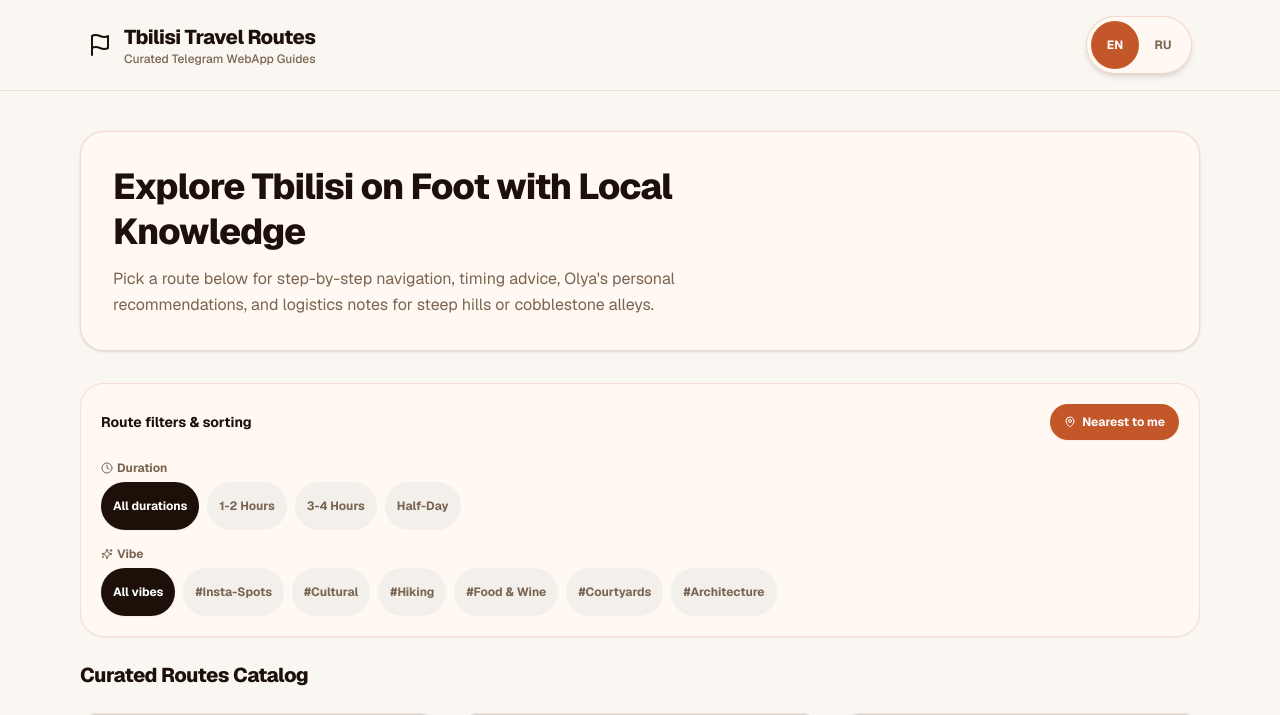
Test case: The catalog › offers a language toggle that switches the catalog into Russian
Click the button with aria-label "Переключить на русский": (1163, 45) x1=1139 y1=21 x2=1187 y2=69
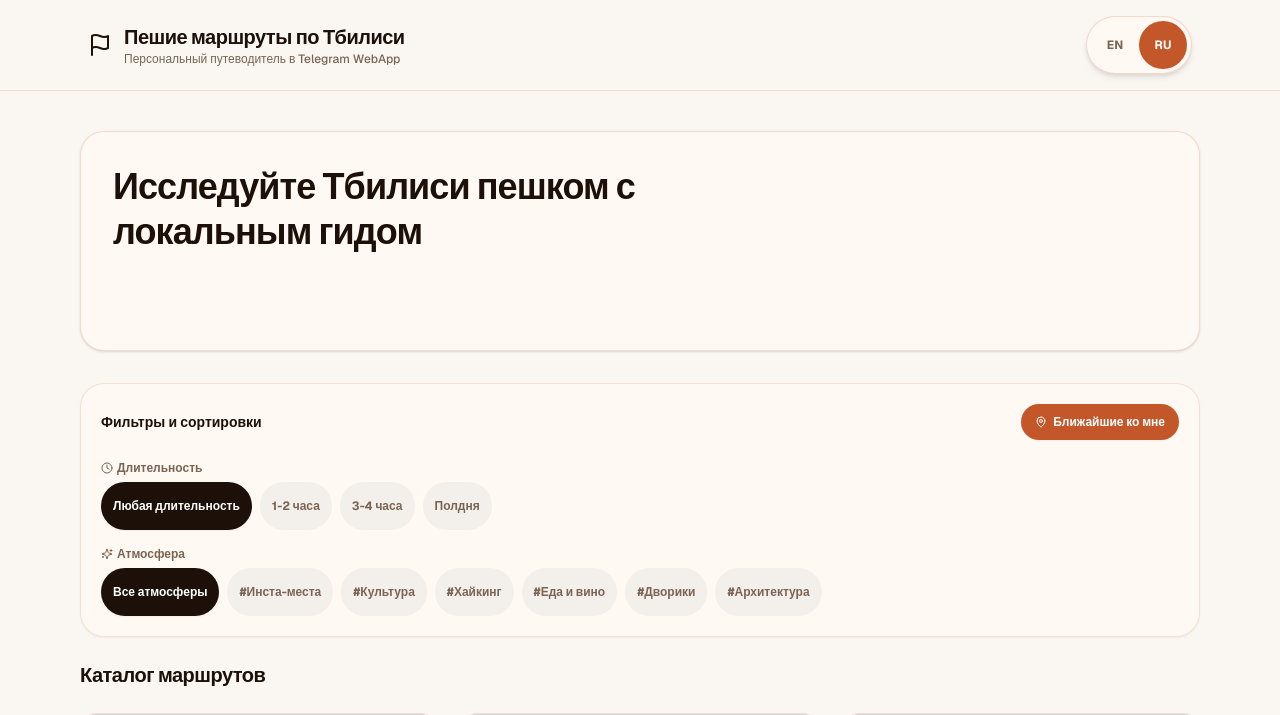
Expected: the heading "Каталог маршрутов" is shown, x1=80 y1=661 x2=265 y2=689
